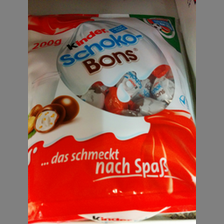chocolate: (28, 14, 196, 224)
